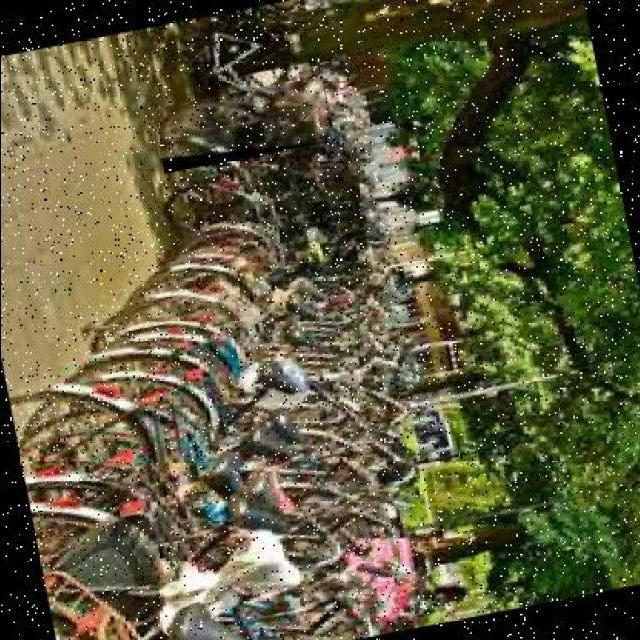bicycle: (152, 75, 336, 175)
